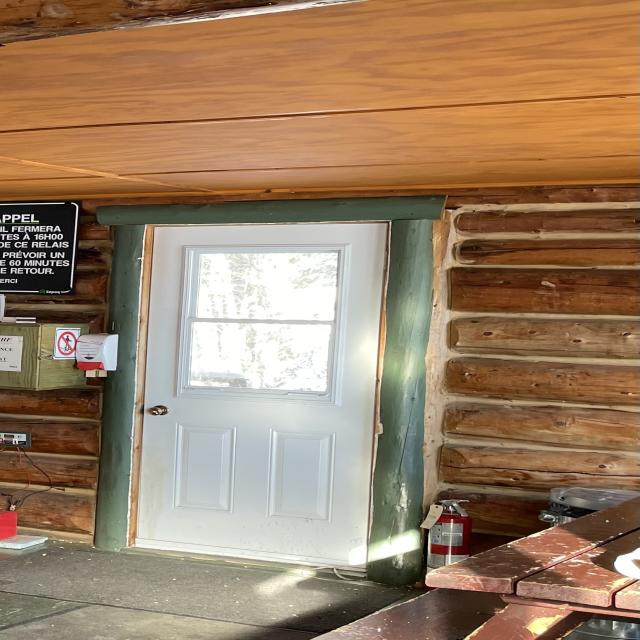door-knob: (148, 405, 169, 415)
